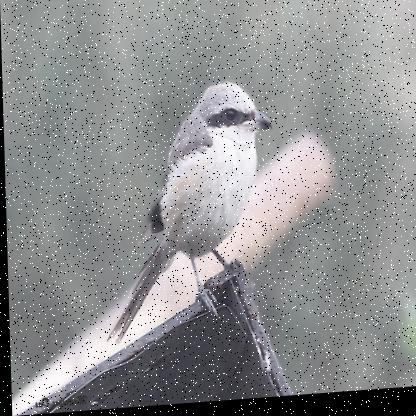Burung: (93, 84, 277, 349)
